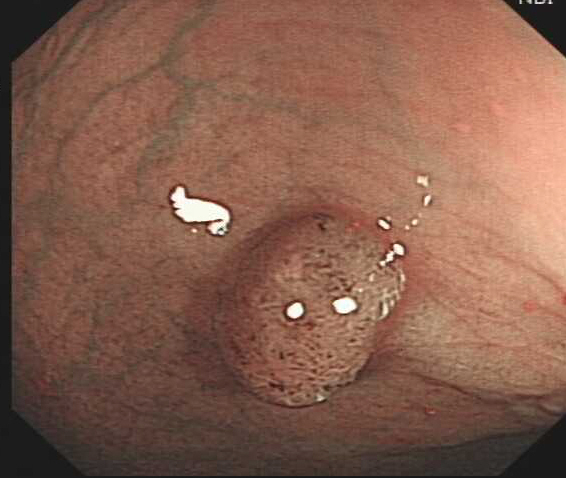others: (212, 211, 408, 410)
